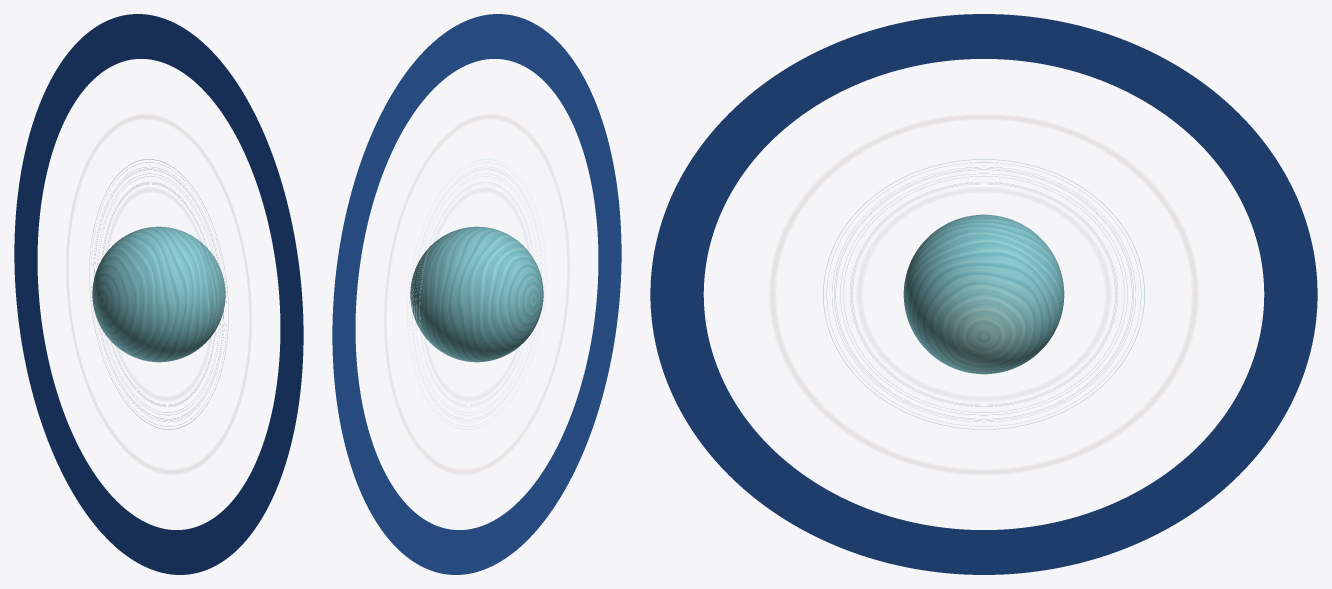
The model's file is uranus.glb.
The picture shows the model from 3 angles, left to right: view 1: azimuth 30°, elevation 25°; view 2: azimuth 150°, elevation 25°; view 3: azimuth 270°, elevation 25°; orthographic projection. The views are drawn at different scales.
Parts seen in each view (by area): view 1: Mu ring.002, Uranus • oblate cloud deck.002, Epsilon ring.002; view 2: Mu ring.002, Uranus • oblate cloud deck.002, Epsilon ring.002; view 3: Mu ring.002, Uranus • oblate cloud deck.002, Epsilon ring.002.
Boxes of the visible parts, <box> form: Mu ring.002: <box>14,14,303,574</box>; Uranus • oblate cloud deck.002: <box>92,226,225,362</box>; Epsilon ring.002: <box>89,159,228,429</box>; Mu ring.002: <box>332,14,621,574</box>; Uranus • oblate cloud deck.002: <box>410,226,543,362</box>; Epsilon ring.002: <box>407,159,546,429</box>; Mu ring.002: <box>650,14,1317,574</box>; Uranus • oblate cloud deck.002: <box>903,214,1064,374</box>; Epsilon ring.002: <box>823,159,1144,429</box>.
Size of the model in its own units: 1.95 by 8.23 by 8.31.
14 materials, 4 textured.
